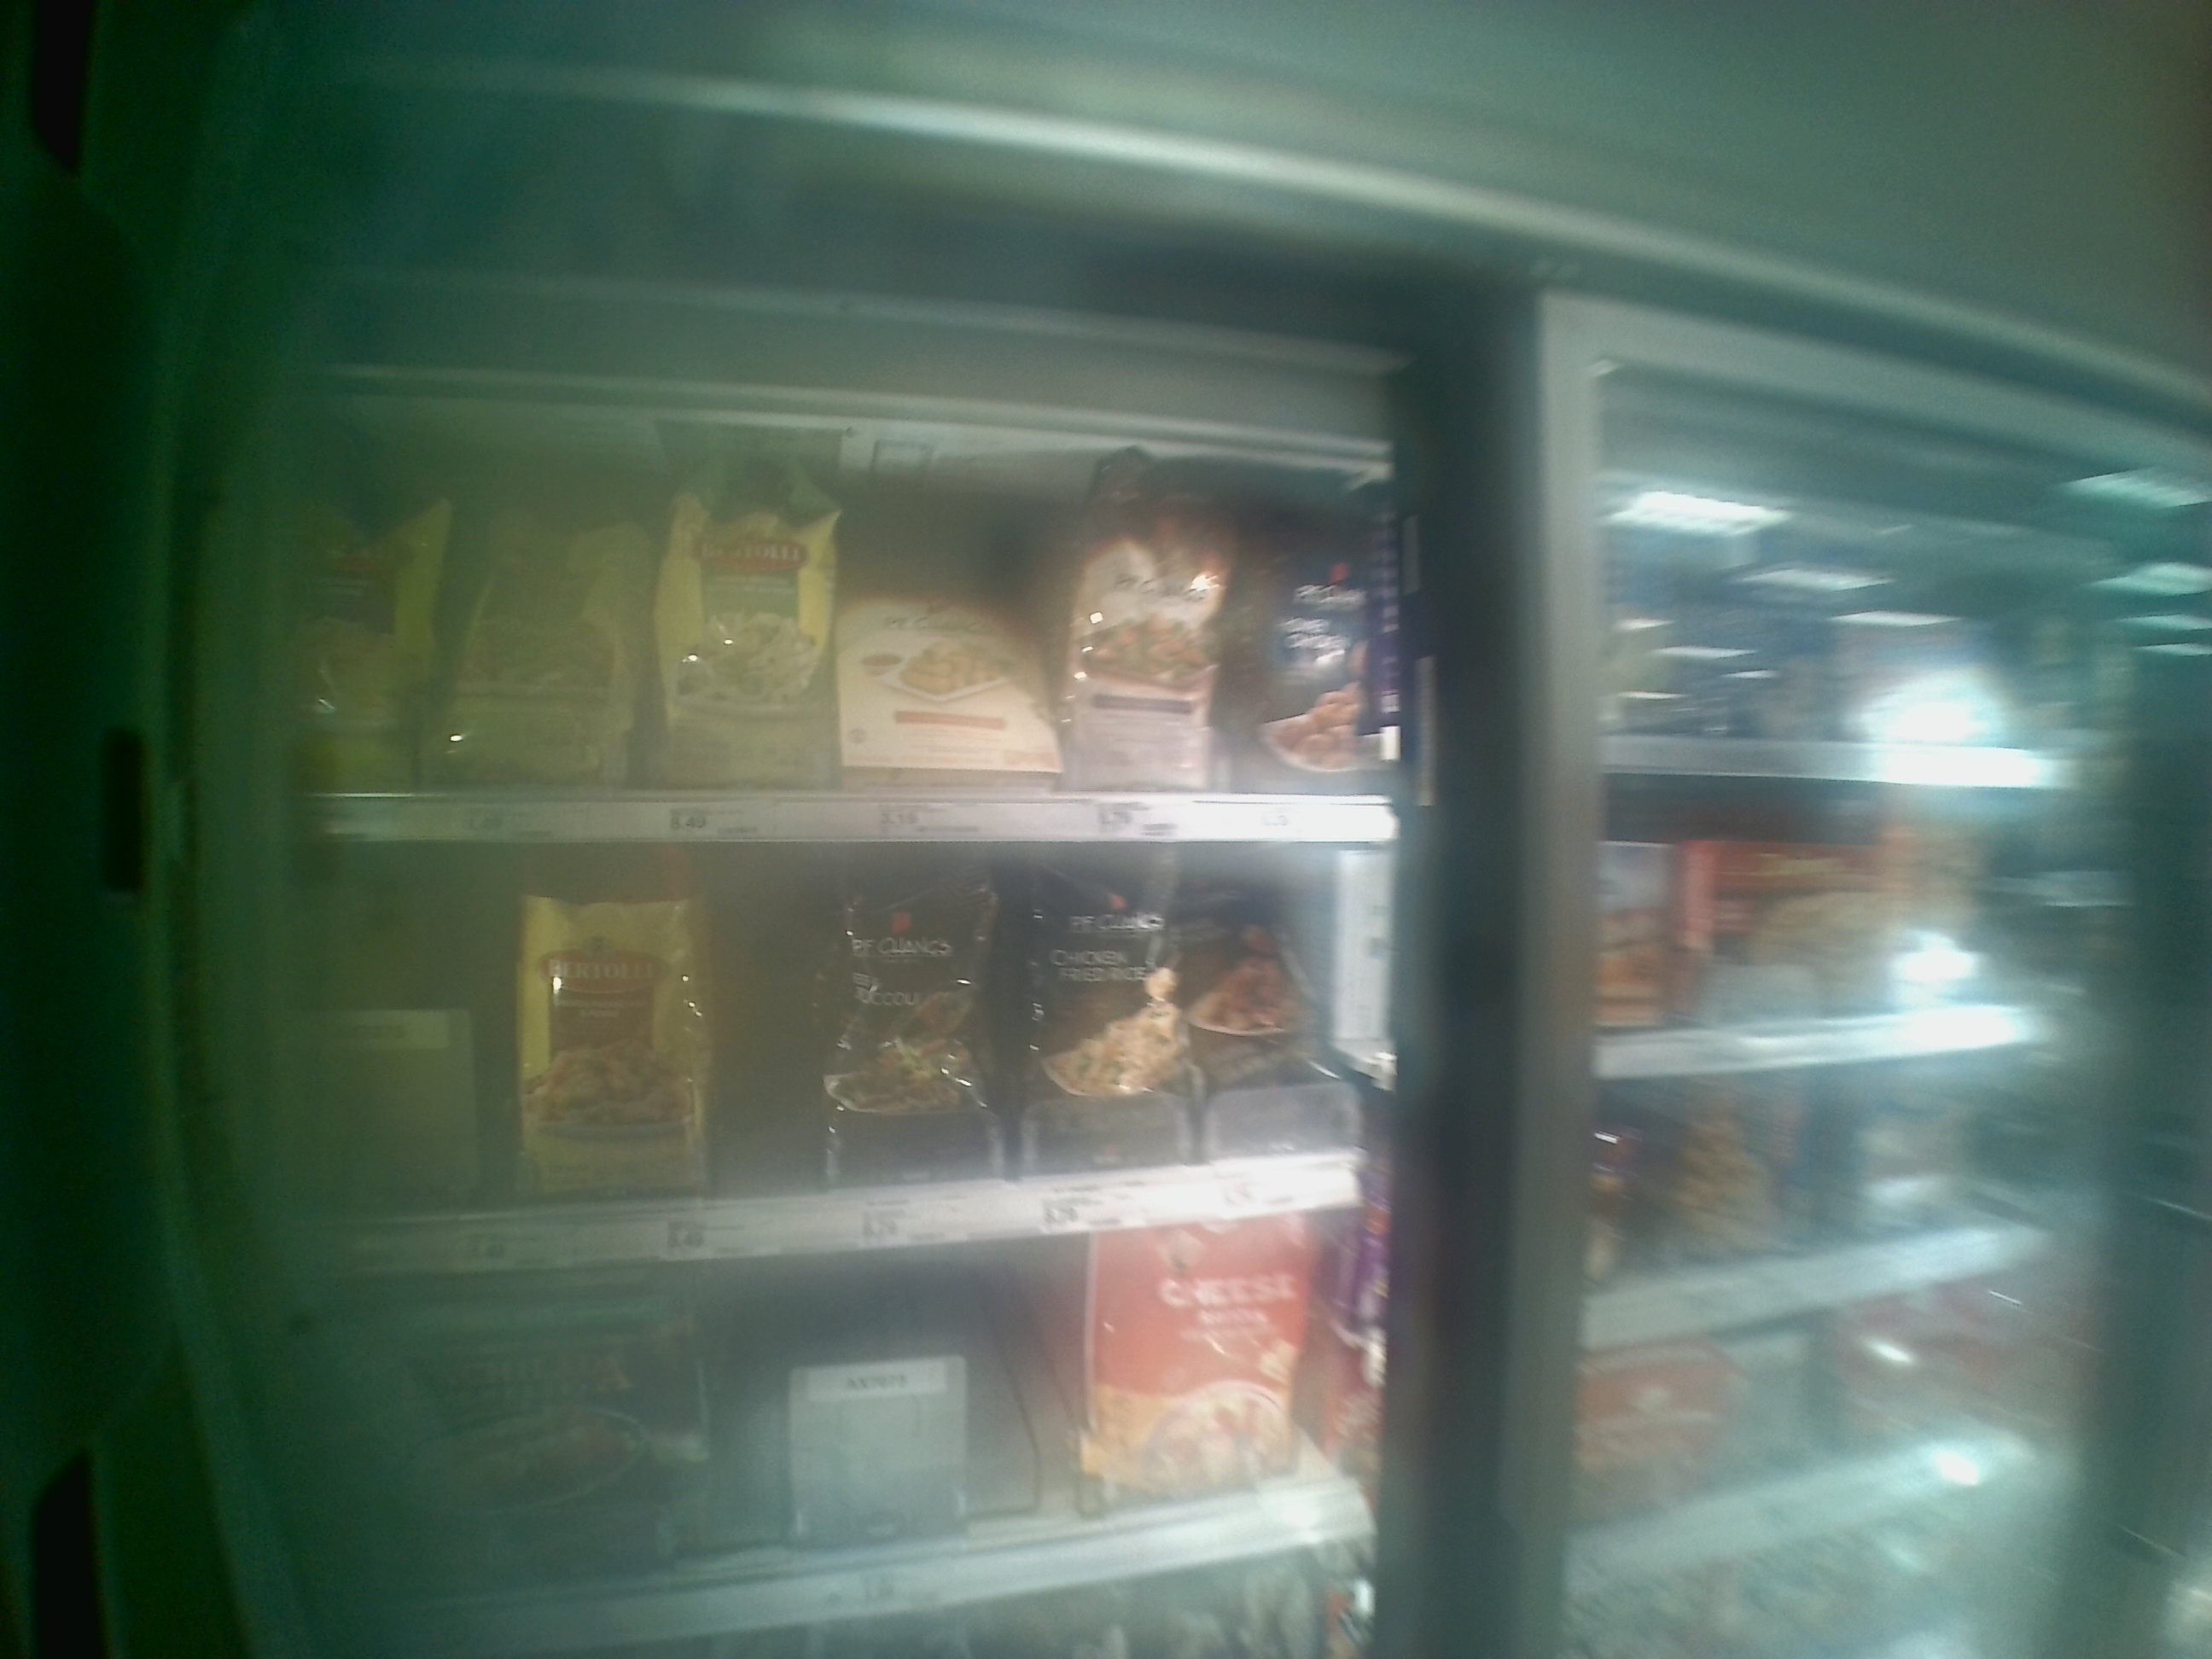shelf: (305, 375, 1381, 842), (314, 836, 1395, 1286)
